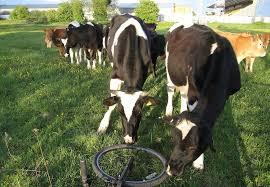cow: (160, 21, 241, 178), (96, 13, 160, 145), (208, 28, 267, 63), (66, 21, 104, 70), (235, 32, 270, 72), (147, 33, 166, 78), (41, 27, 66, 56)
